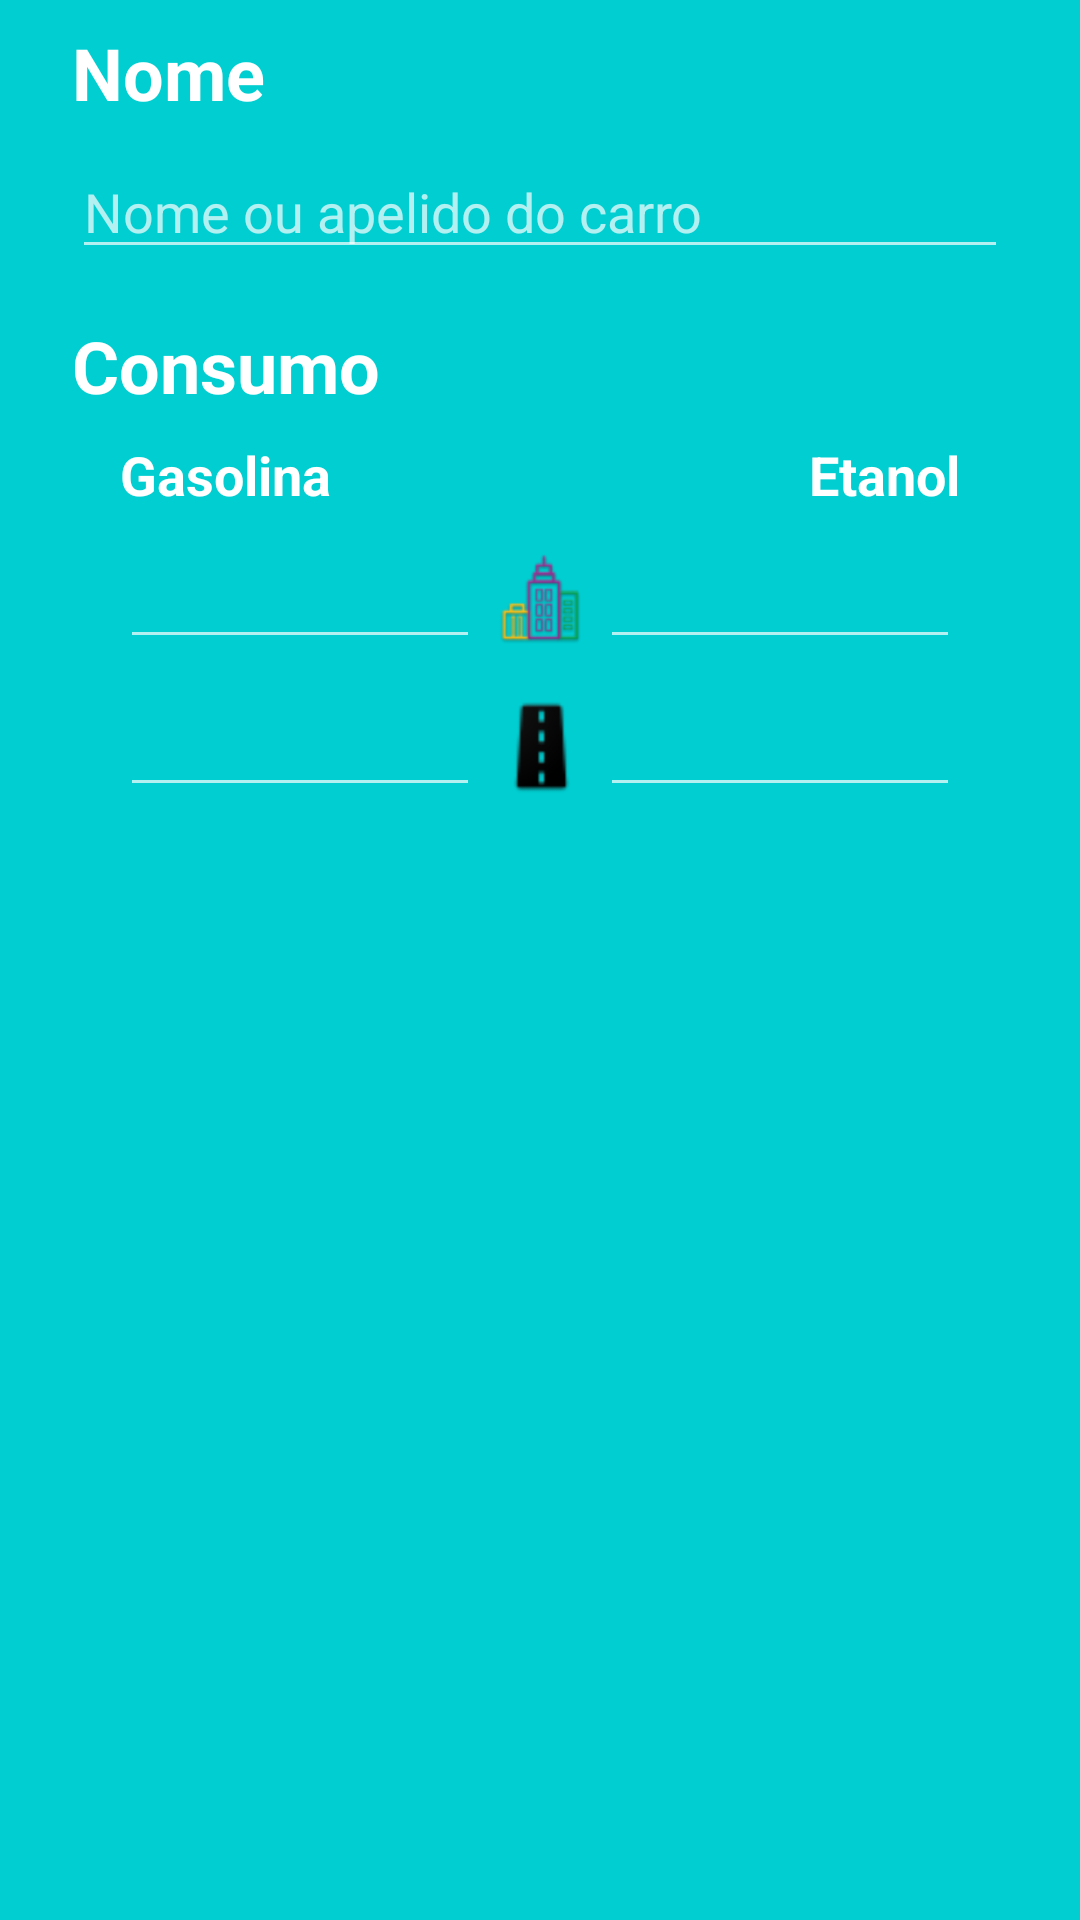

Named icons in this screenshot (1080w x 1920h) and their centers, point (x, y):
city: point (540, 598)
